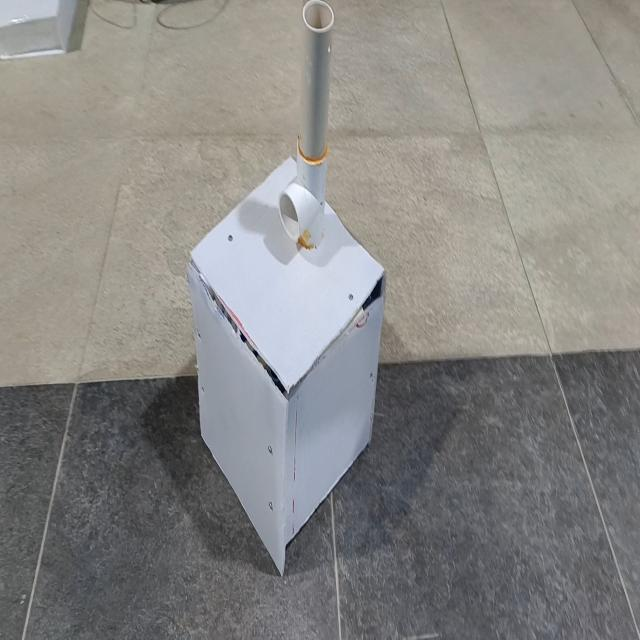Cube: (185, 152, 387, 576)
